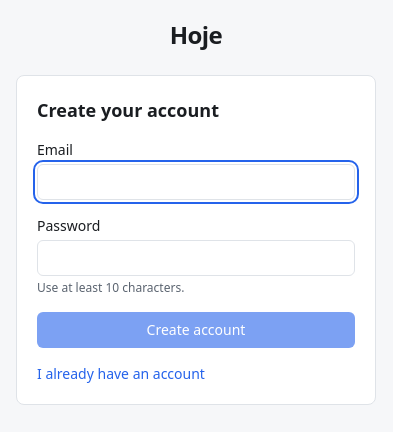
Test case: setup › shows the server strength feedback under the field
Step 1. Type "ana@example.com" into the field labelled "Email" → (196, 182), box [37,164,355,200]
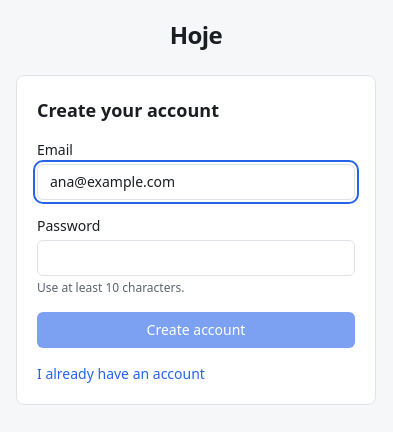
Step 2. Type "password1234" into the password field labelled "Password" → (196, 258), box [37,240,355,276]
Then press Enter
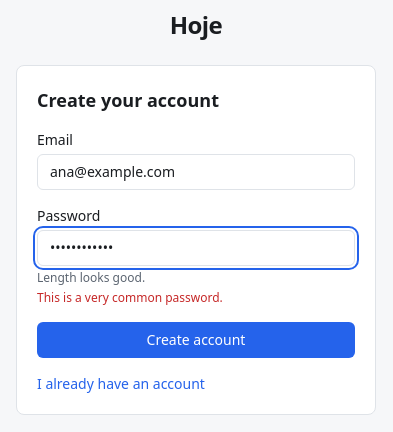
Check: the text "This is a very common password." is shown, box [37,289,223,306]
